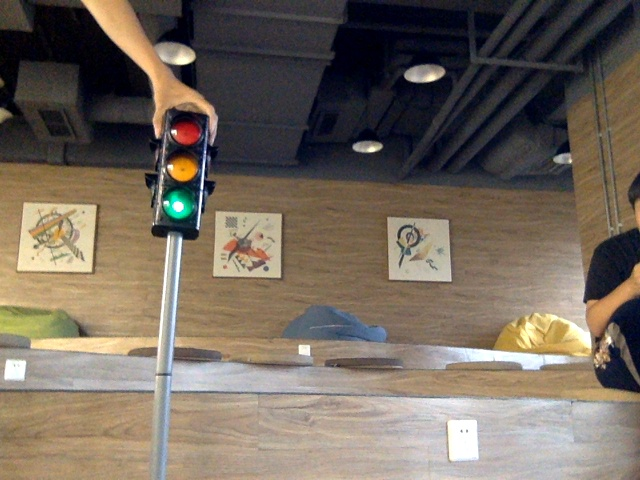green: (164, 119, 193, 223)
